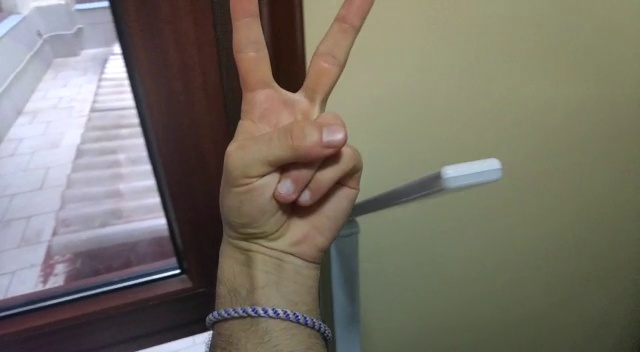Peace: (215, 1, 368, 243)
